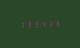four: (39, 20, 45, 27)
nine: (32, 20, 38, 28)
one: (17, 20, 23, 28)
six: (53, 19, 59, 27)
three: (24, 20, 30, 28), (46, 19, 52, 27)
